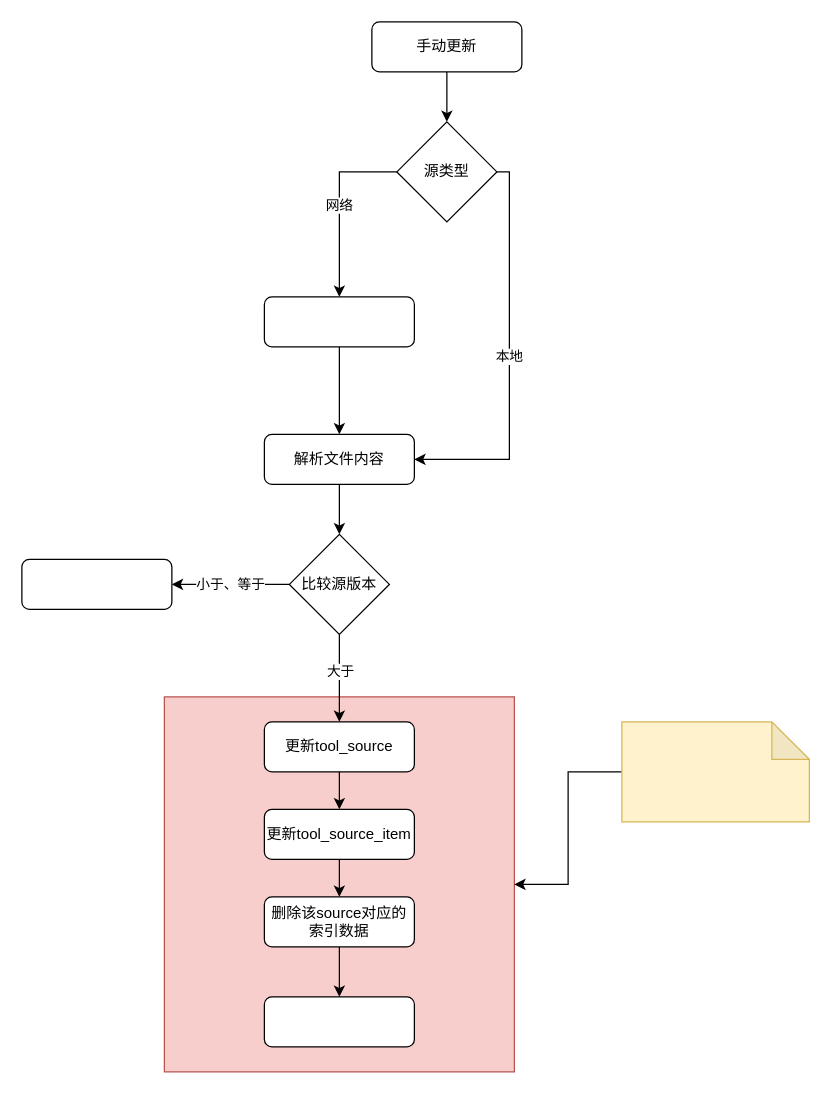
Some shapes in this 831 by 1094 pixel diagram are drawn without their labels. The shapes that lost their labels are listed below. From the top down, each one's box as (x1, y1, x2, y2) in pixels, then its label:
(263, 296, 414, 347): 下载网络文件
(21, 558, 172, 609): 结束
(621, 721, 809, 822): 执行过程中系统以外发生中断，数据如何保存和恢复？后续要考虑
(263, 996, 414, 1047): 重新插入索引数据
